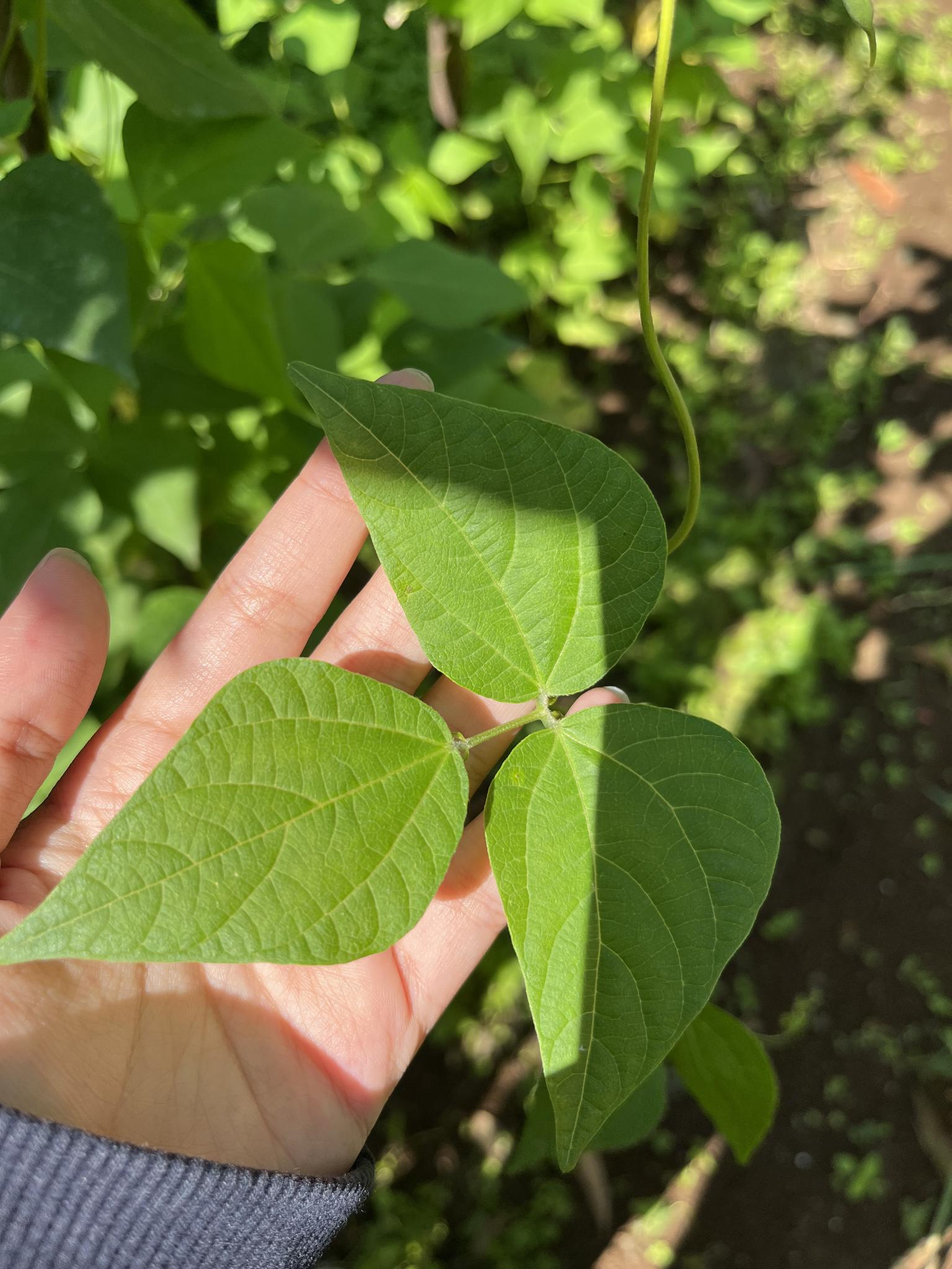sehat: (0, 654, 472, 975), (501, 694, 778, 1179), (301, 362, 677, 694)
